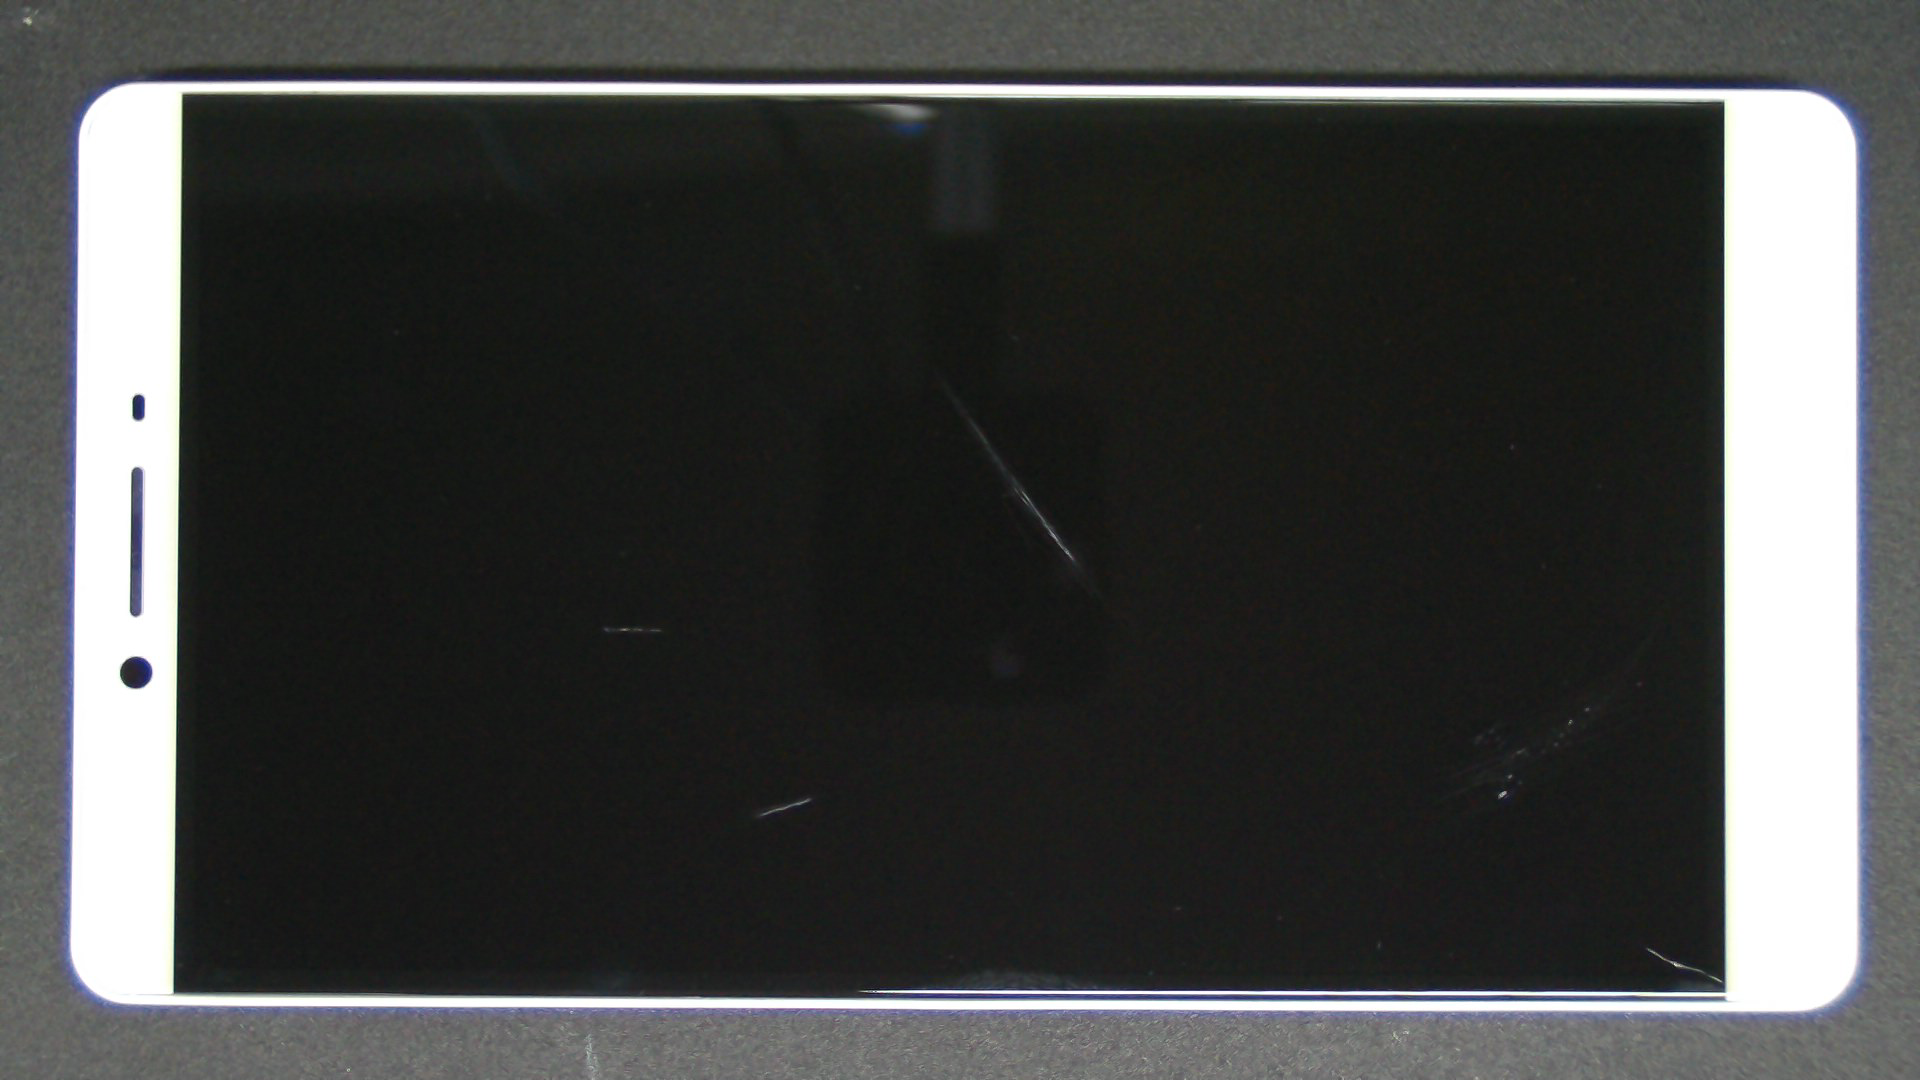defect: (971, 422, 1073, 560), (1644, 945, 1724, 982), (760, 796, 811, 818), (603, 626, 661, 633)
